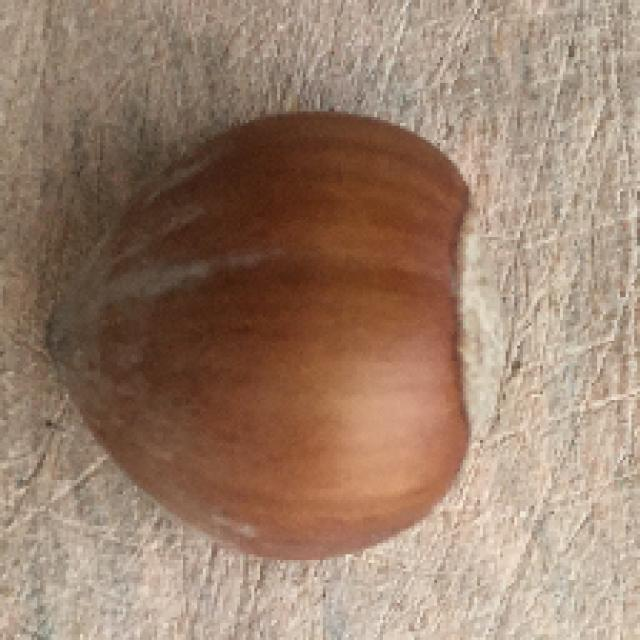qualityHazelnut: (48, 117, 507, 555)
